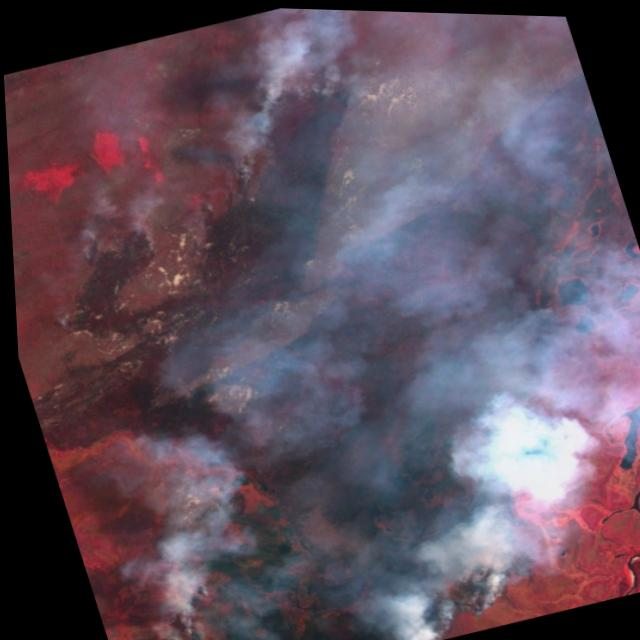fire: (2, 56, 424, 364), (113, 435, 538, 640)
